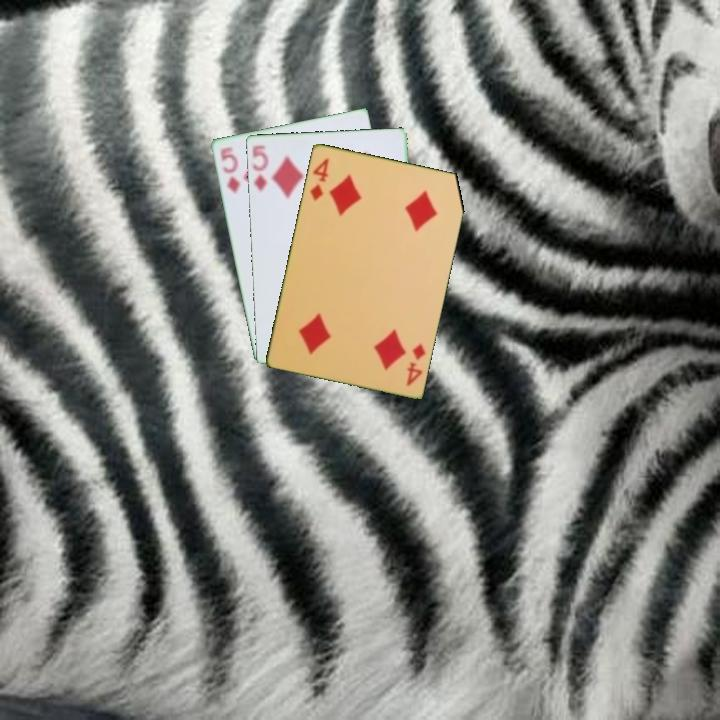4d: (306, 154, 331, 204), (403, 339, 428, 389)
5d: (216, 143, 242, 197), (248, 141, 271, 193)
